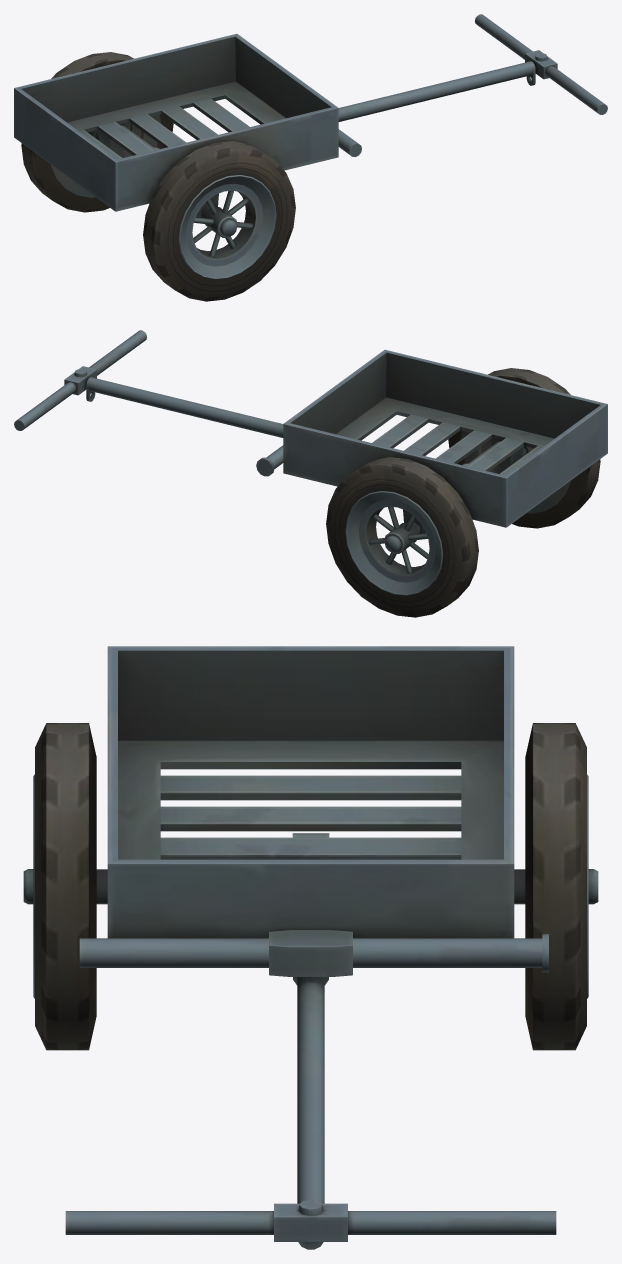
3 views of the same model, one above another, from view 1: azimuth 30°, elevation 25°; view 2: azimuth 150°, elevation 25°; view 3: azimuth 270°, elevation 25° (orthographic). The views are drawn at different scales.
Parts seen in each view (by area): view 1: body0_model0_lod0_mesh0; view 2: body0_model0_lod0_mesh0; view 3: body0_model0_lod0_mesh0.
Boxes of the visible parts, x1,y1,x2,y2 form: body0_model0_lod0_mesh0: (14,14,607,301); body0_model0_lod0_mesh0: (14,330,607,617); body0_model0_lod0_mesh0: (23,646,598,1249).
Bounding box in the file's own units: 87.94 × 25.86 × 45.27.
1 material, 1 textured.
